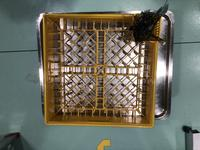Cutlery: (130, 0, 169, 46)
